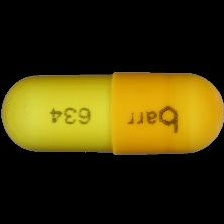0555-0634: (0, 0, 224, 224)
